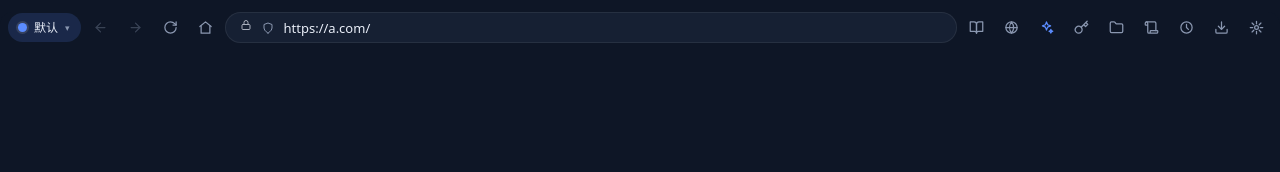
Scenario: AddressBar：建议下拉 › 书签命中排在直达之后
The image size is (1280, 172).
Replace the text in the field named "地址栏" with "example" at (613, 28), box x1=284 y1=13 x2=942 y2=42
Wait 200 ms
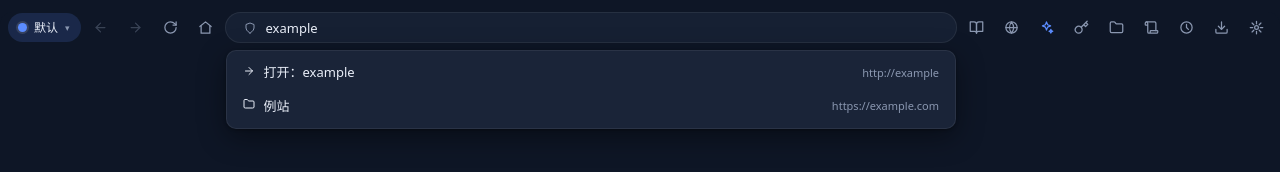
Result: the number of options with class "suggest-item" is 2 at x1=242 y1=63 x2=939 y2=81; x1=242 y1=96 x2=939 y2=114
Result: the option with class "suggest-item" shows "打开" at x1=242 y1=63 x2=939 y2=81
Result: the option with class "suggest-item" shows "例站" at x1=242 y1=96 x2=939 y2=114
